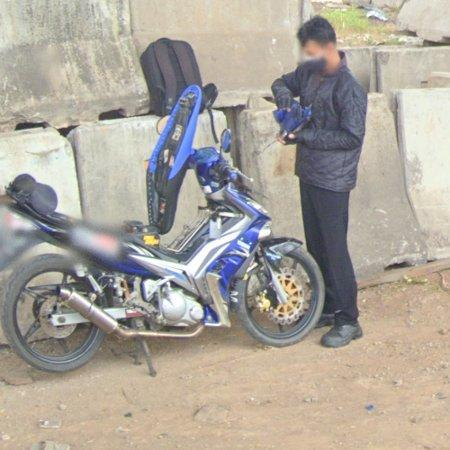motorcycles: (2, 39, 325, 374)
